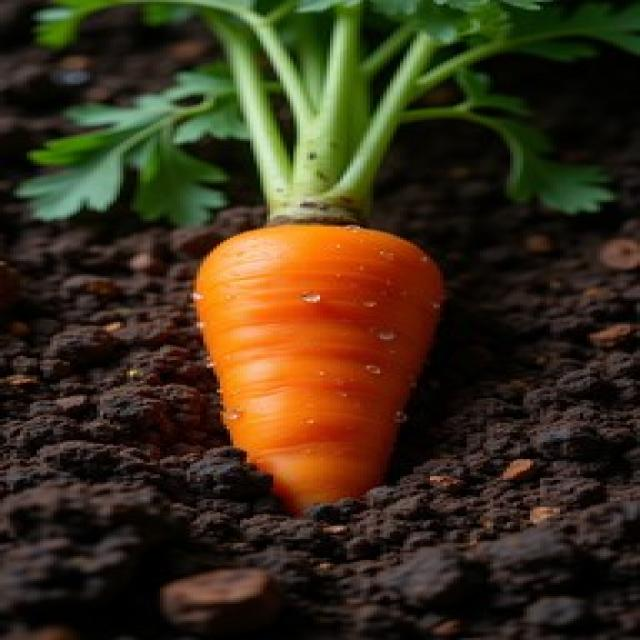carrot: (20, 0, 639, 512)
